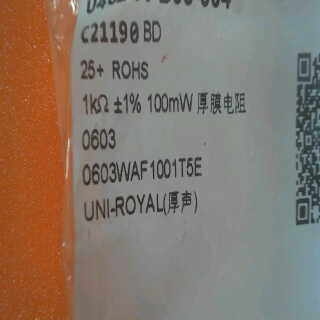1kR: (81, 90, 111, 119)
